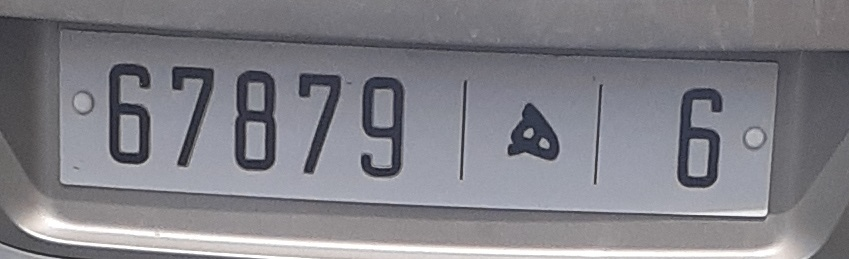6: (667, 76, 729, 197), (103, 58, 155, 168)
7: (165, 62, 219, 175), (294, 67, 347, 177)
8: (230, 61, 282, 180)
9: (354, 63, 409, 188)
h: (496, 87, 567, 171)
